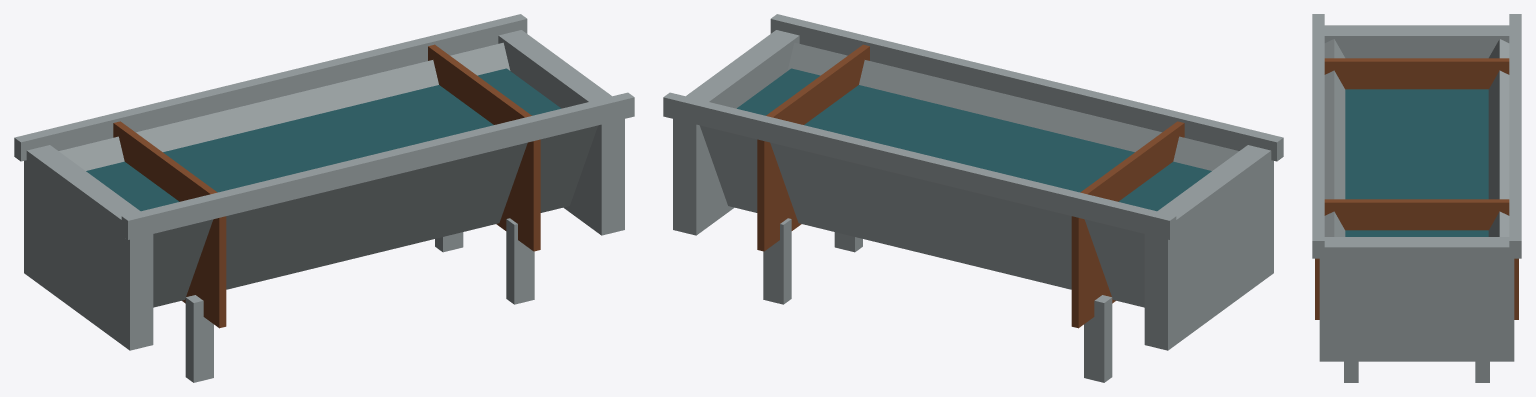
Rendered from FARM_TROUGH_GALVANIZED_LODs.fbx.
3 views of the same model, side by side, from view 1: azimuth 30°, elevation 25°; view 2: azimuth 150°, elevation 25°; view 3: azimuth 270°, elevation 25° (orthographic). The views are drawn at different scales.
Visible parts, largest first — view 1: FARM_TROUGH_GALVANIZED_LOD0; view 2: FARM_TROUGH_GALVANIZED_LOD0; view 3: FARM_TROUGH_GALVANIZED_LOD0.
Part boxes in pixels (x1=…): FARM_TROUGH_GALVANIZED_LOD0: x1=14, y1=14, x2=634, y2=382; FARM_TROUGH_GALVANIZED_LOD0: x1=663, y1=14, x2=1283, y2=382; FARM_TROUGH_GALVANIZED_LOD0: x1=1312, y1=14, x2=1521, y2=382.
Size of what is drawn, in the model's own units: 1.85 by 0.68 by 0.72.
